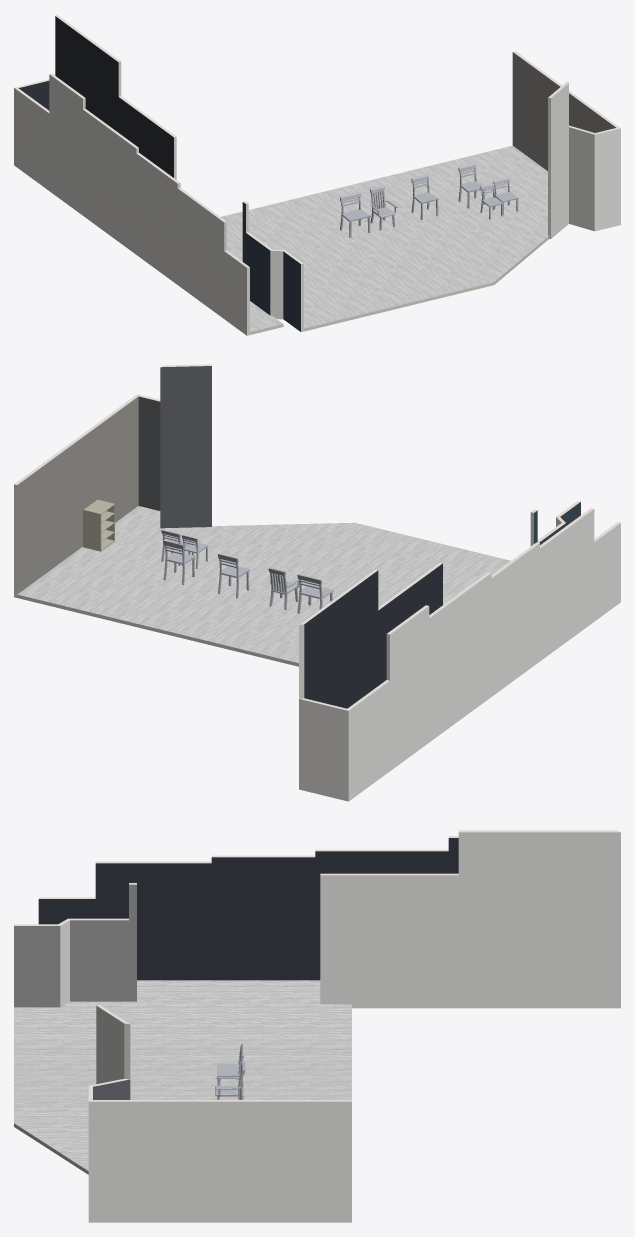
File: TheaterWalk.glb
The picture shows the model from 3 angles, top to bottom: view 1: azimuth 30°, elevation 25°; view 2: azimuth 150°, elevation 25°; view 3: azimuth 270°, elevation 25°; orthographic projection. The views are drawn at different scales.
Visible parts, largest first — view 1: floor_Living_Room, wall_5, wall_10, wall_24, wall_4, wall_6, wall_8, wall_14, wall_16, wall_21, floor_Living_Room_2, wall_12 (+7 smaller); view 2: floor_Living_Room, wall_5, wall_24, wall_10, wall_22, wall_9, wall_18, storage_shelf0, wall_21, floor_Living_Room_2, wall_25, chair_other_four_back_no0 (+3 smaller); view 3: wall_0, floor_Living_Room, wall_7, wall_20, wall_2, wall_3, wall_6, wall_21, wall_11, wall_1, wall_26.
Boxes of the visible parts, left/top/right/bottom form: floor_Living_Room: left=221, top=145, right=548, bottom=331; wall_5: left=14, top=74, right=246, bottom=335; wall_10: left=55, top=16, right=173, bottom=177; wall_24: left=512, top=52, right=615, bottom=170; wall_4: left=594, top=128, right=620, bottom=231; wall_6: left=551, top=83, right=568, bottom=238; wall_8: left=569, top=127, right=594, bottom=231; wall_14: left=242, top=202, right=270, bottom=315; wall_16: left=283, top=251, right=300, bottom=331; wall_21: left=14, top=73, right=249, bottom=335; floor_Living_Room_2: left=250, top=236, right=549, bottom=334; wall_12: left=270, top=250, right=283, bottom=319; floor_Living_Room: left=17, top=506, right=510, bottom=663; wall_5: left=348, top=509, right=620, bottom=801; wall_24: left=17, top=396, right=138, bottom=594; wall_10: left=304, top=563, right=442, bottom=708; wall_22: left=160, top=366, right=211, bottom=528; wall_9: left=299, top=699, right=348, bottom=801; wall_18: left=138, top=396, right=160, bottom=510; storage_shelf0: left=83, top=499, right=114, bottom=551; wall_21: left=347, top=508, right=620, bottom=710; floor_Living_Room_2: left=16, top=594, right=298, bottom=666; wall_25: left=14, top=394, right=138, bottom=597; chair_other_four_back_no0: left=297, top=574, right=333, bottom=613; wall_0: left=320, top=832, right=620, bottom=1008; floor_Living_Room: left=14, top=980, right=351, bottom=1170; wall_7: left=88, top=1101, right=351, bottom=1222; wall_20: left=38, top=838, right=458, bottom=980; wall_2: left=70, top=884, right=136, bottom=1001; wall_3: left=14, top=926, right=60, bottom=1007; wall_6: left=96, top=1006, right=124, bottom=1084; wall_21: left=38, top=836, right=458, bottom=898; wall_11: left=320, top=830, right=620, bottom=875; wall_1: left=60, top=920, right=69, bottom=1006; wall_26: left=93, top=1079, right=130, bottom=1099.
Bounding box in the file's own units: 13.82 × 4.74 × 14.75.
31 materials, 2 textured.
